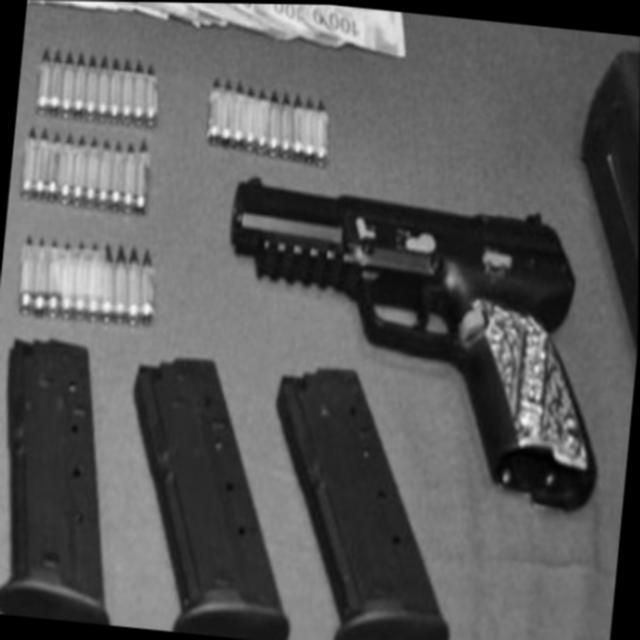weapon: (206, 171, 621, 514)
